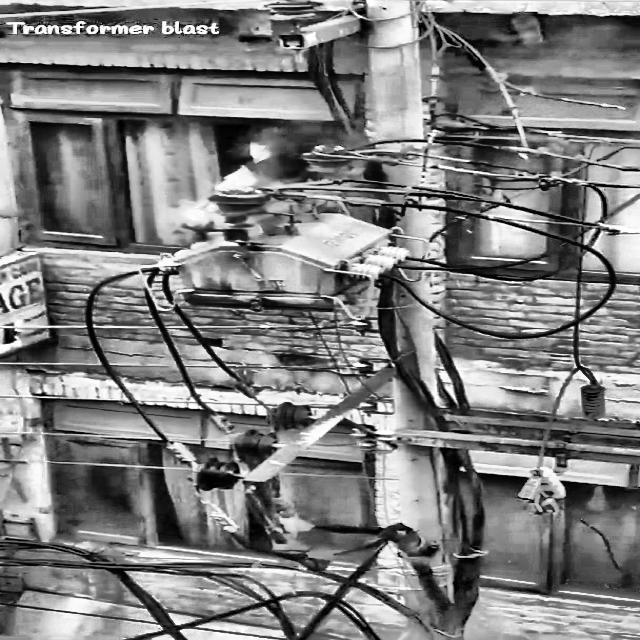Fire: (150, 136, 292, 242)
